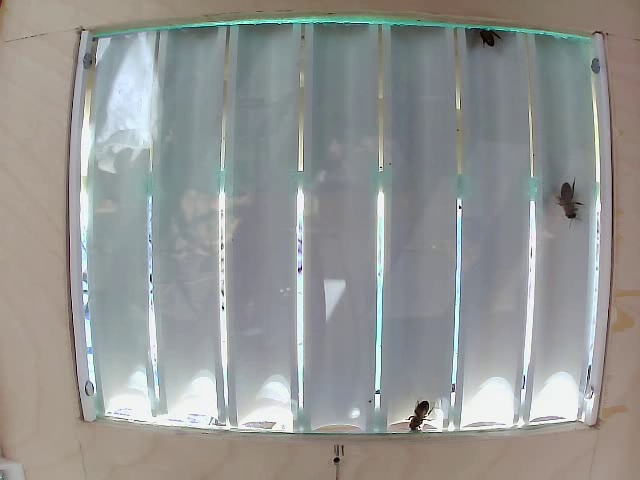bee: (551, 168, 589, 238), (408, 390, 438, 444)
